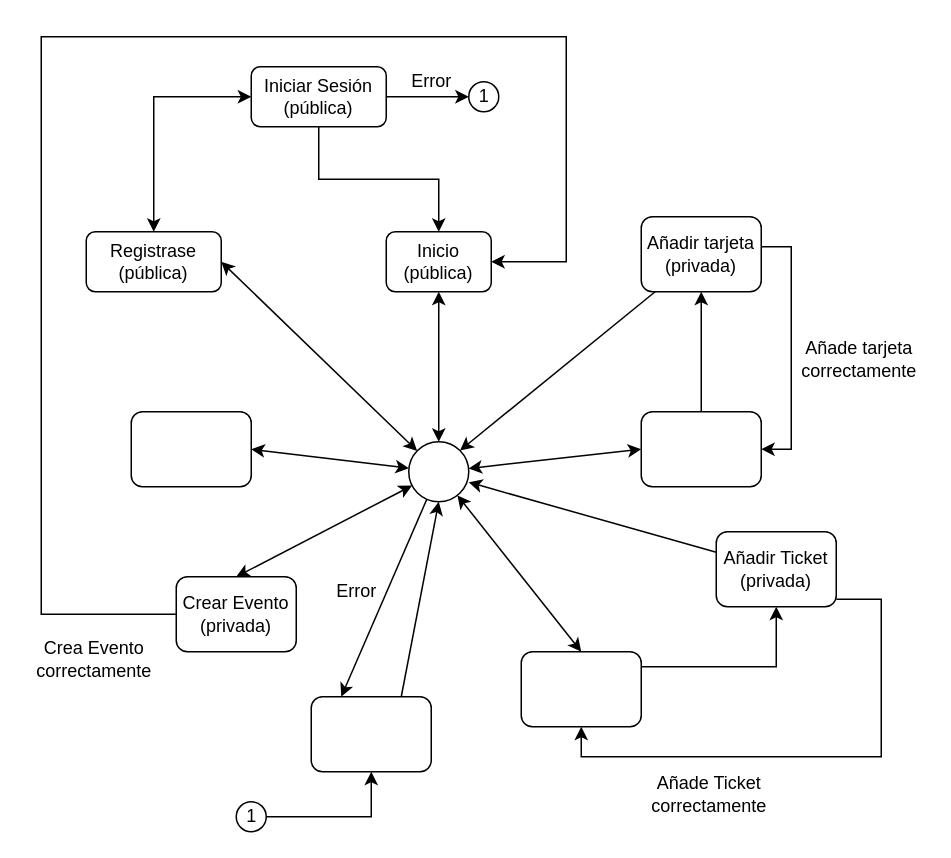
Image size: 951x858. Some labels were removed from this diagram. The box of each missing label's shape, as (x1, y1, x2, y2) in pixels:
Errores (pública): (310, 695, 431, 772)
Mis Compras (privada): (130, 410, 251, 487)
Mis Eventos (privada): (520, 650, 641, 727)
Perfil (privada): (640, 410, 761, 487)
